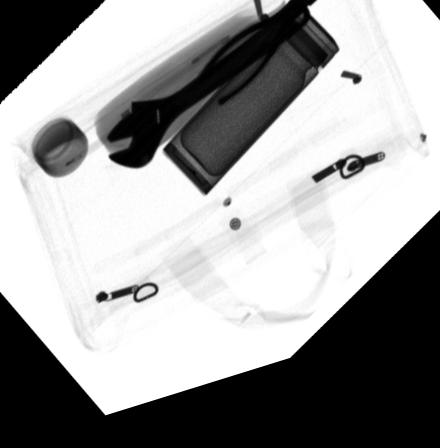Pliers: (190, 0, 327, 121)
Wrench: (105, 20, 312, 178)
